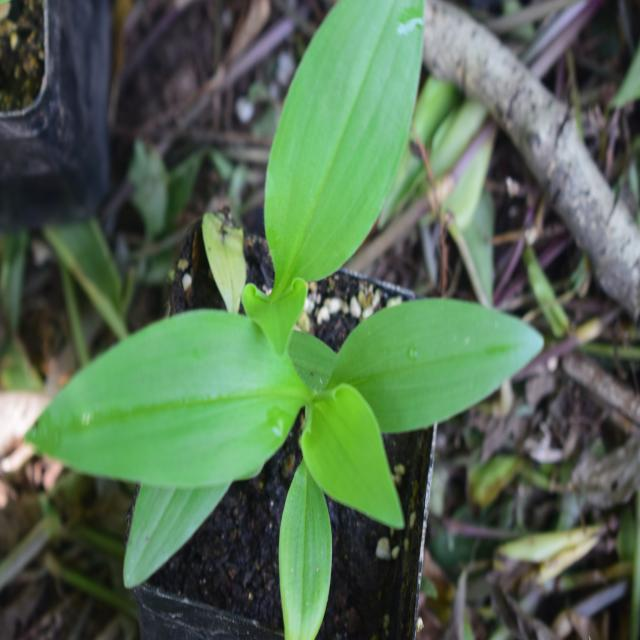Common Dayflower: (29, 273, 540, 580)
